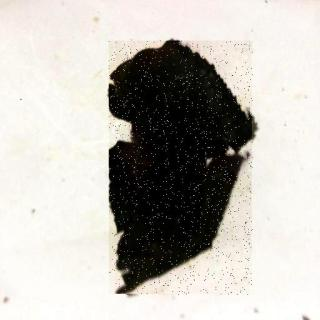Red Leaf Spot: (110, 42, 254, 297)
